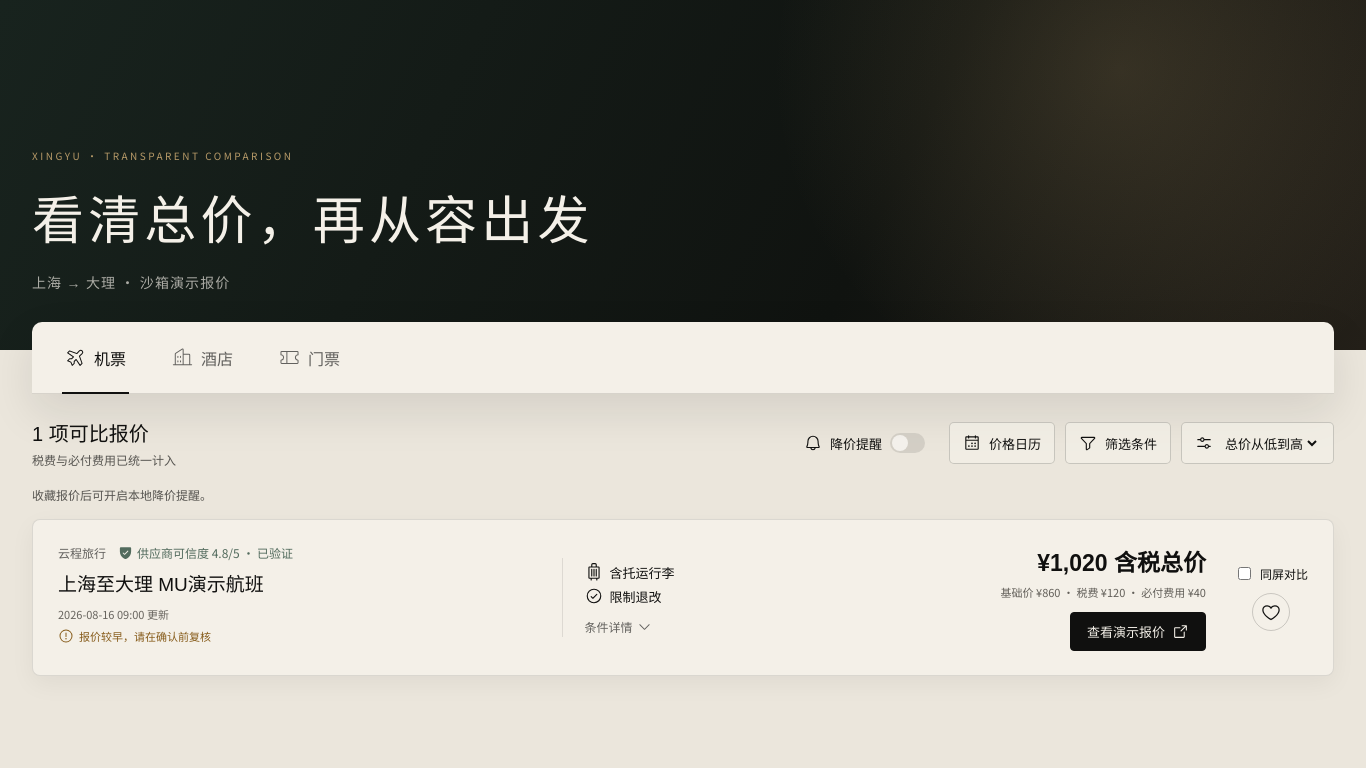
Test: ComparisonClient incremental results › requires an explicit external booking confirmation with supplier responsibility disclosure
The width and height of the screenshot is (1366, 768).
Expected: the text "¥1,020 含税总价" is shown, [1037,544,1206,578]
Click the button with aria-label "查看 云程旅行 演示报价": (1138, 631) [1070,612,1206,651]
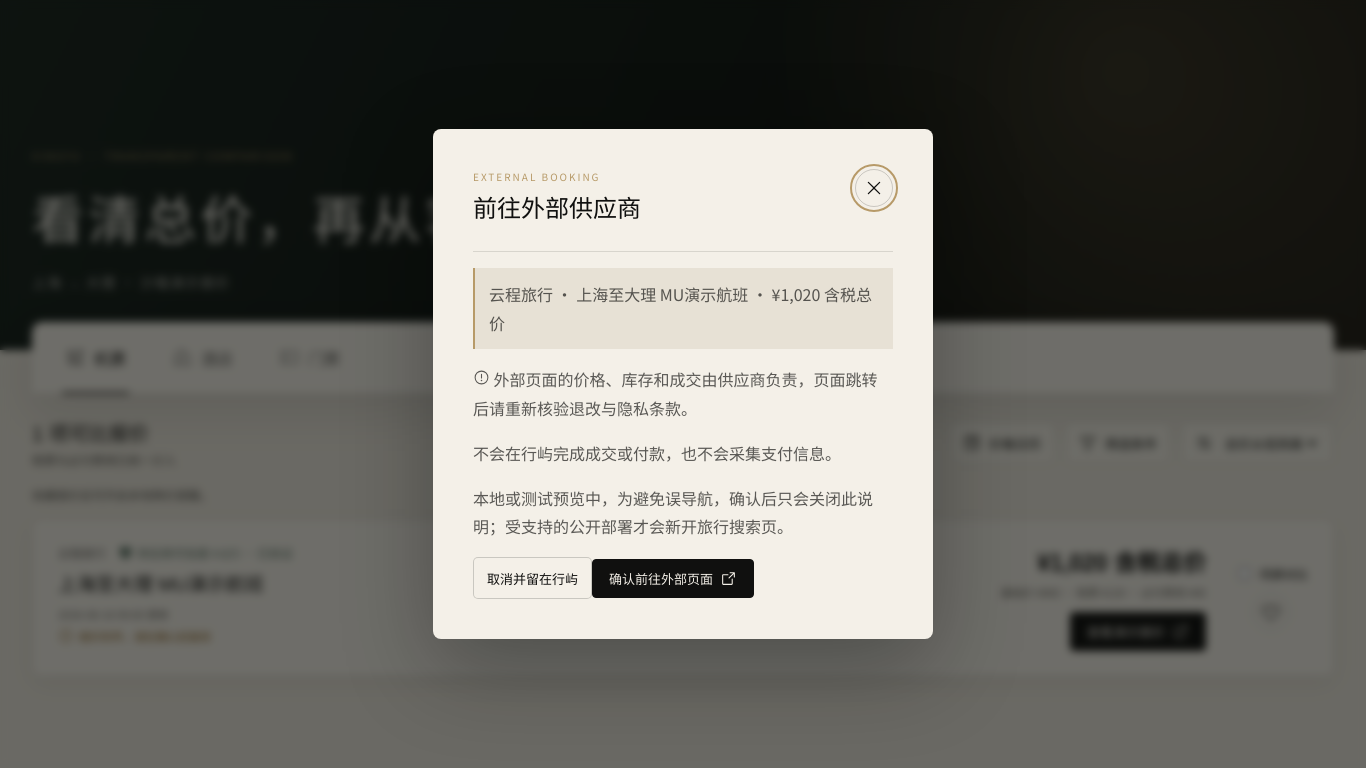
Expected: the dialog "前往外部供应商" shows "云程旅行", [489,282,553,306]
Expected: the dialog "前往外部供应商" shows "外部页面的价格、库存和成交由供应商负责", [473,367,878,420]
Expected: the dialog "前往外部供应商" shows "不会在行屿完成成交或付款", [473,441,841,465]
Click the button "取消并留在行屿": (532, 578) [473,557,592,599]
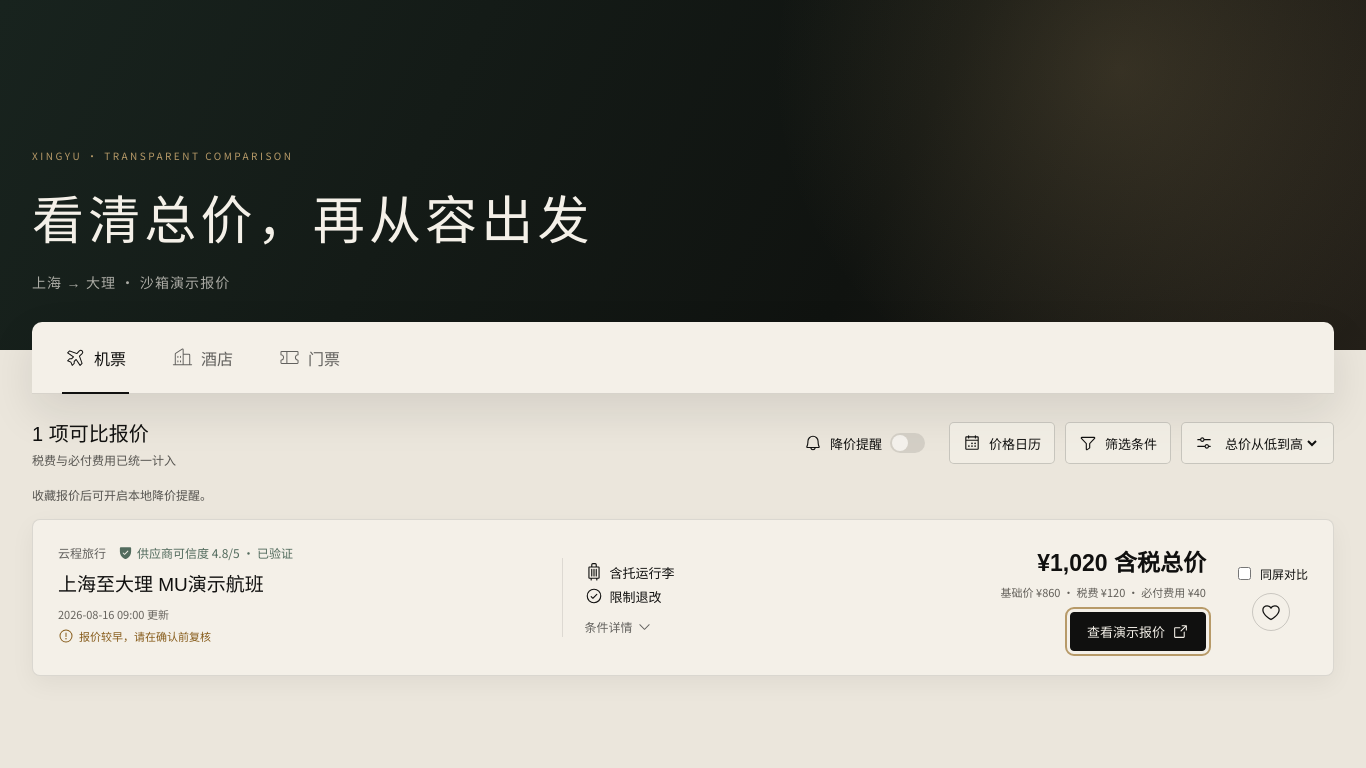
Expected: the heading "前往外部供应商" is gone
